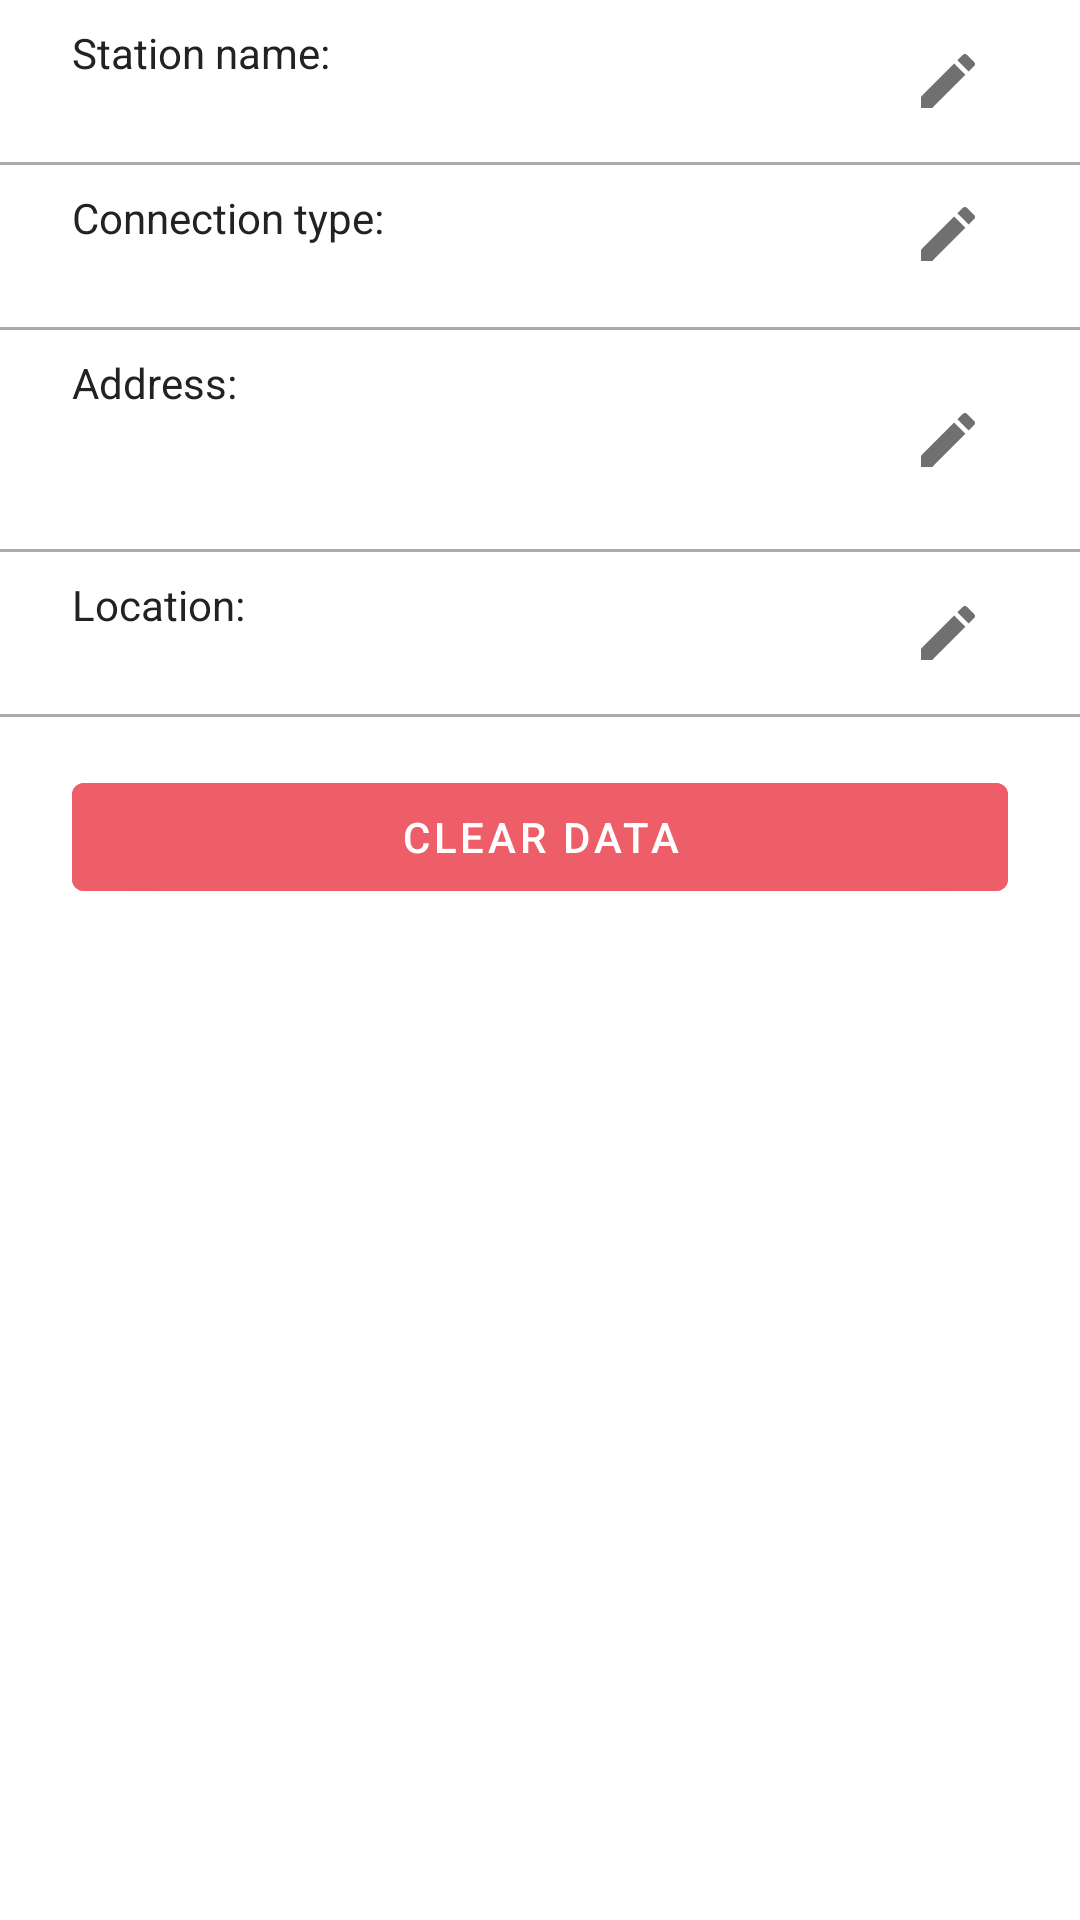

Icons on this 1080 x 1920 Android screen, each with its box as (x1, y1, x2, y2):
edit: (921, 54, 975, 108), (921, 207, 975, 261), (921, 413, 975, 467), (921, 606, 975, 660)
